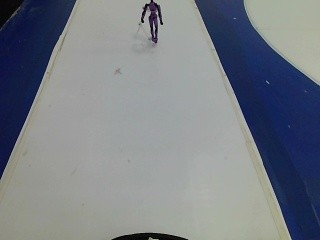pedestrian: (135, 1, 171, 51)
